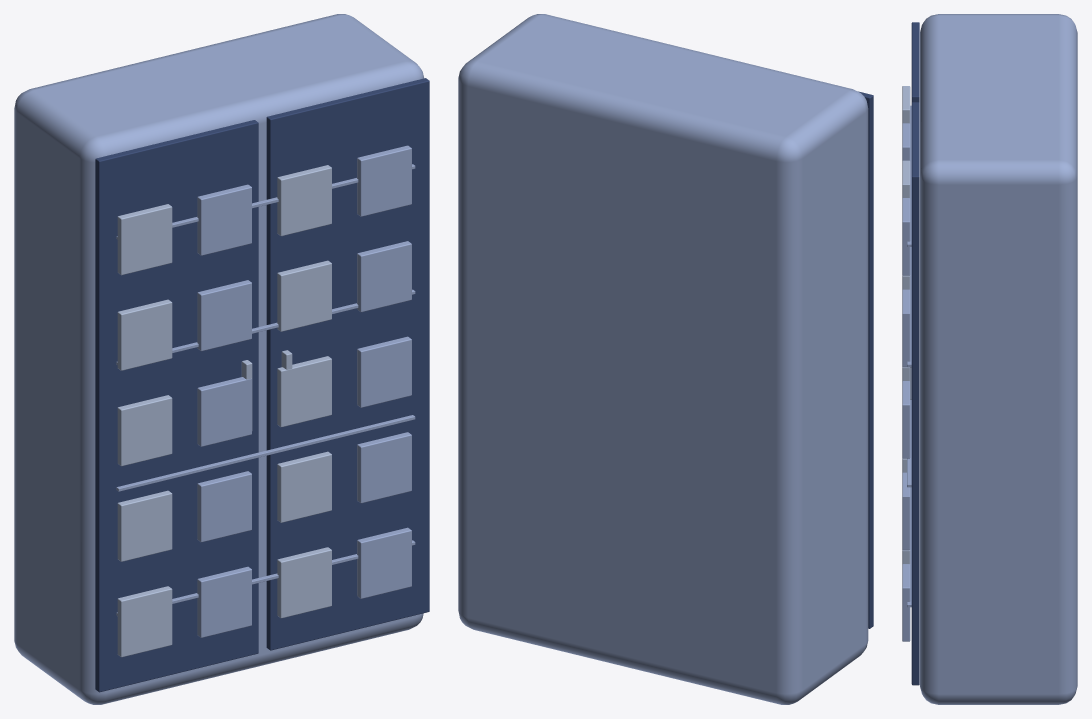
File: cabinet.glb
The picture shows the model from 3 angles, left to right: view 1: azimuth 30°, elevation 25°; view 2: azimuth 150°, elevation 25°; view 3: azimuth 270°, elevation 25°; orthographic projection. The views are drawn at different scales.
Parts seen in each view (by area): view 1: door (×2), cabinet, packed supplies (×20), shelf marking; view 2: cabinet, door; view 3: cabinet, door (×2), packed supplies (×8), shelf marking.
Part boxes in pixels (x1=…): door (×2): x1=95, y1=78, x2=429, y2=692; cabinet: x1=14, y1=14, x2=423, y2=704; packed supplies (×20): x1=117, y1=145, x2=411, y2=657; shelf marking: x1=116, y1=415, x2=415, y2=491; cabinet: x1=458, y1=14, x2=868, y2=704; door: x1=858, y1=91, x2=873, y2=628; cabinet: x1=920, y1=14, x2=1077, y2=704; door (×2): x1=911, y1=22, x2=919, y2=685; packed supplies (×8): x1=902, y1=86, x2=910, y2=641; shelf marking: x1=907, y1=105, x2=911, y2=246.
Size of the model in its own units: 1.2 by 1.9 by 0.5555.
